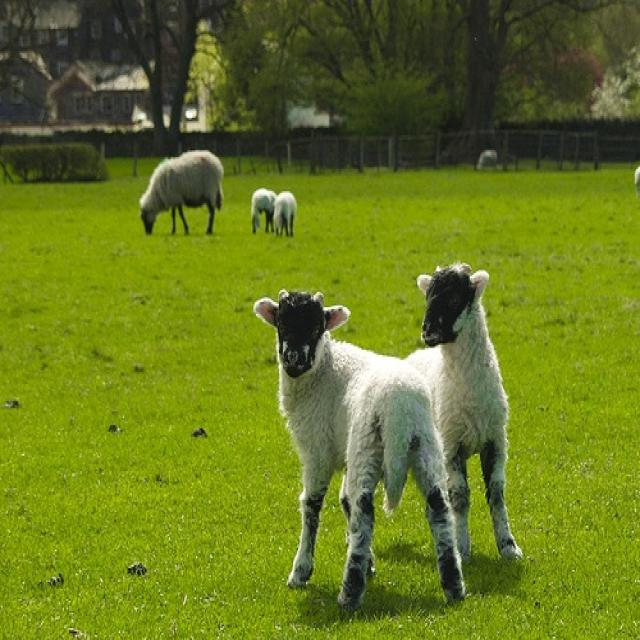sheep: (250, 288, 464, 606), (407, 263, 522, 561), (136, 143, 227, 239), (273, 188, 297, 239), (250, 184, 275, 229)
